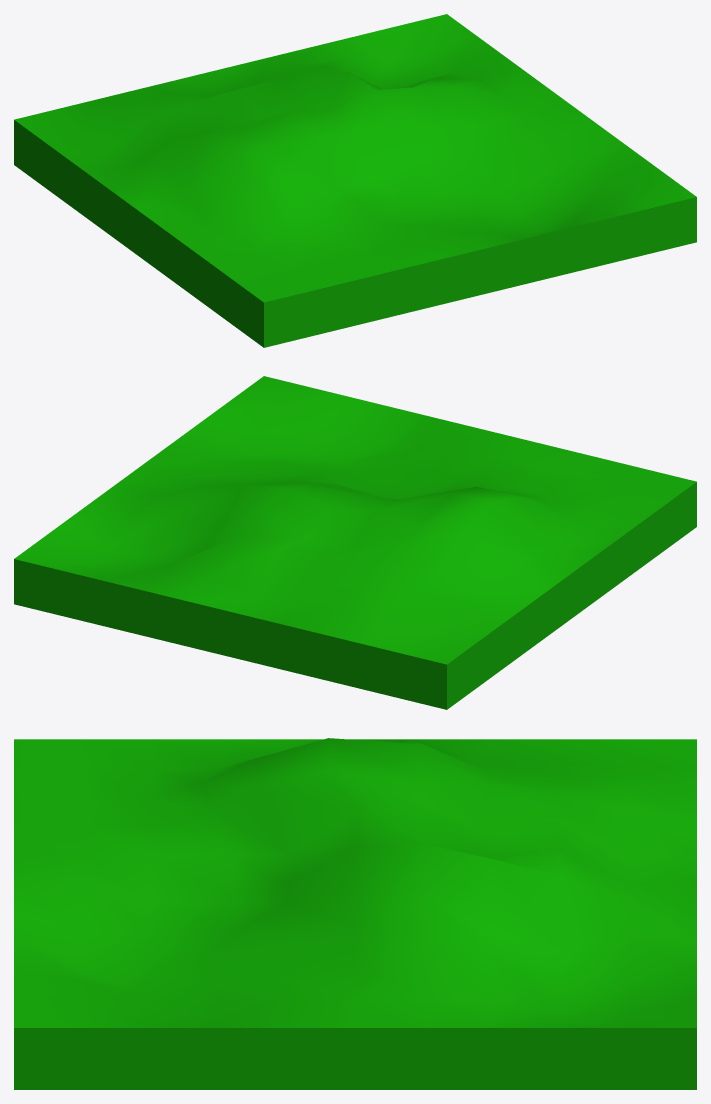
The model's file is island_terrain_00.fbx.
The picture shows the model from 3 angles, top to bottom: view 1: azimuth 30°, elevation 25°; view 2: azimuth 150°, elevation 25°; view 3: azimuth 270°, elevation 25°; orthographic projection. The views are drawn at different scales.
Parts seen in each view (by area): view 1: Box001; view 2: Box001; view 3: Box001.
Boxes of the visible parts, bbox=[...] form: Box001: bbox=[14, 14, 696, 347]; Box001: bbox=[14, 376, 696, 709]; Box001: bbox=[14, 738, 696, 1089].
Size of the model in its own units: 400 by 78.12 by 400.
